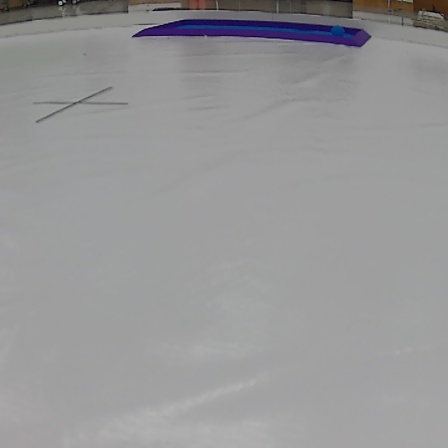blue: (328, 24, 347, 36)
blue_aim: (134, 16, 368, 52)
